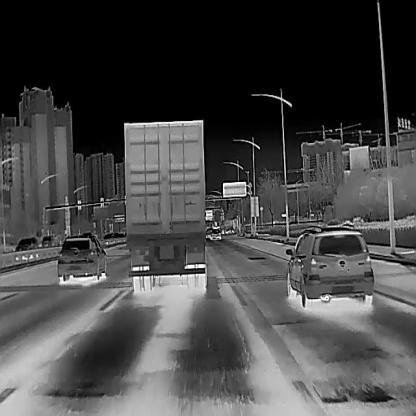car: (124, 120, 207, 290), (285, 222, 373, 306), (57, 231, 107, 281), (15, 236, 38, 250), (41, 233, 60, 246), (210, 227, 222, 239)
crosswalk: (0, 308, 416, 416)
